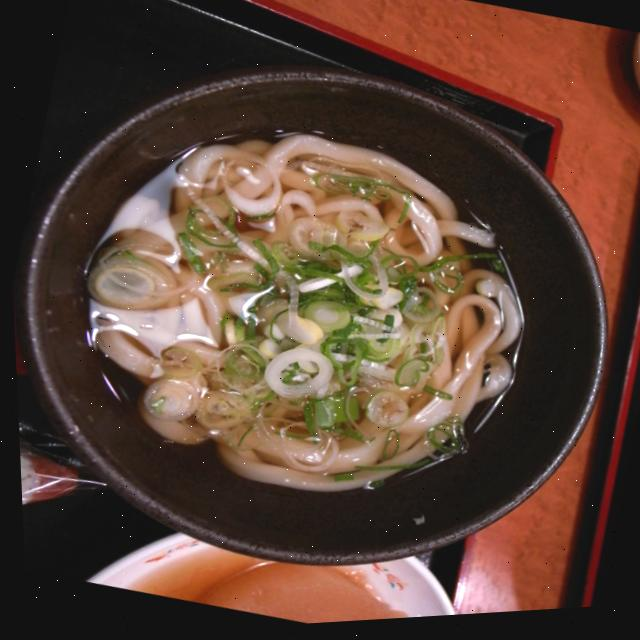面条主食: (2, 34, 622, 564)
